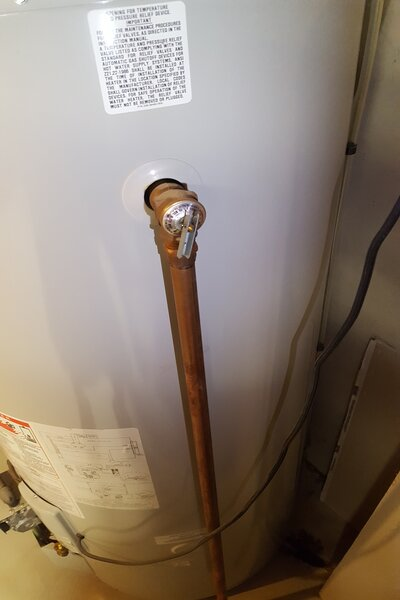valve: (143, 178, 209, 277)
